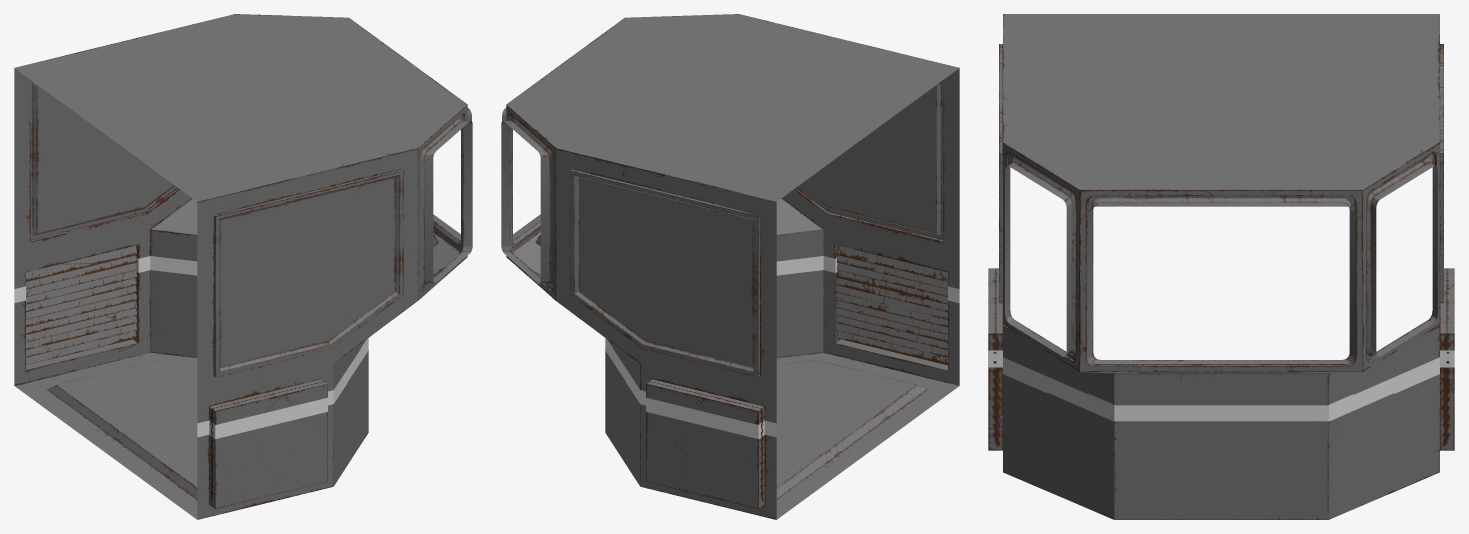
Rendered from Cockpit Base.fbx.
3 renders of one model, left to right at view 1: azimuth 30°, elevation 25°; view 2: azimuth 150°, elevation 25°; view 3: azimuth 270°, elevation 25°, orthographic. The views are drawn at different scales.
Visible parts, largest first — view 1: Cockpit base; view 2: Cockpit base; view 3: Cockpit base.
Part boxes in pixels (x1,y1,x2,y2): Cockpit base: (14,14,472,519); Cockpit base: (501,14,959,519); Cockpit base: (988,14,1454,519).
Bounding box in the file's own units: 214 × 210 × 234.
